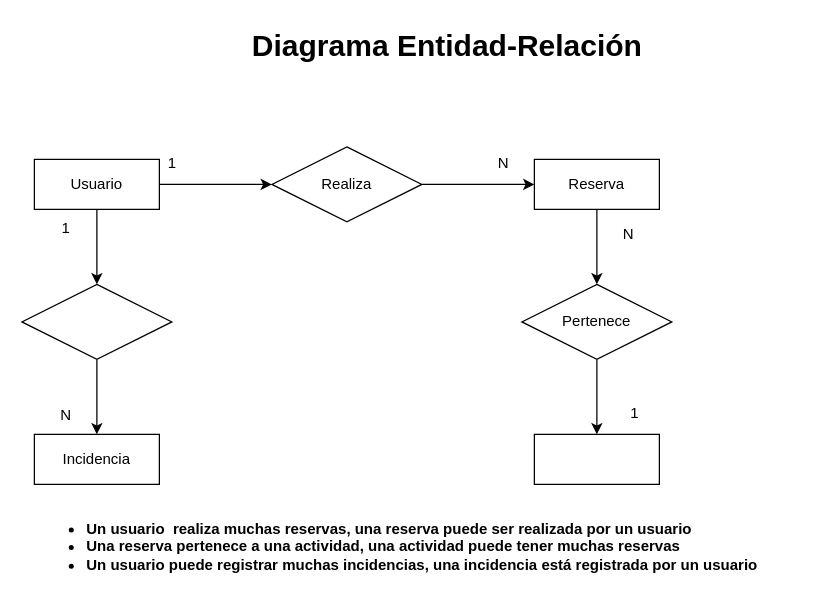
Image size: 819x610. Some labels were removed from this diagram. Each missing label, with the box of its shape:
Actividad: (533, 433, 659, 484)
Registra: (21, 283, 172, 359)
